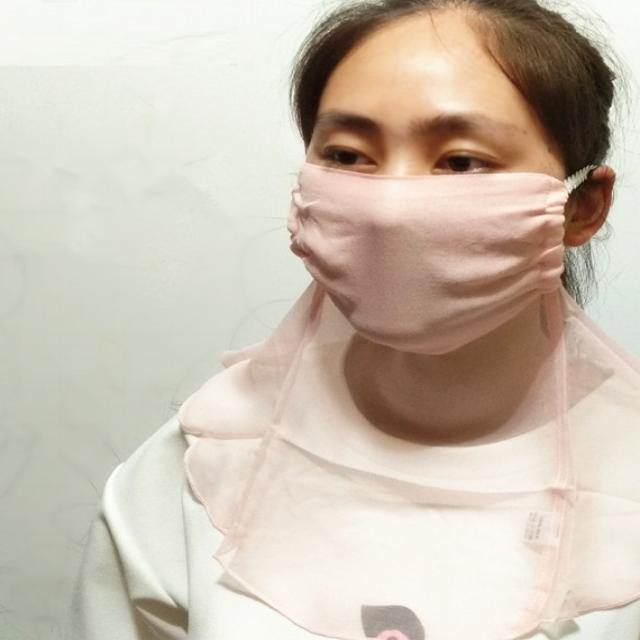mask: (300, 14, 556, 345)
